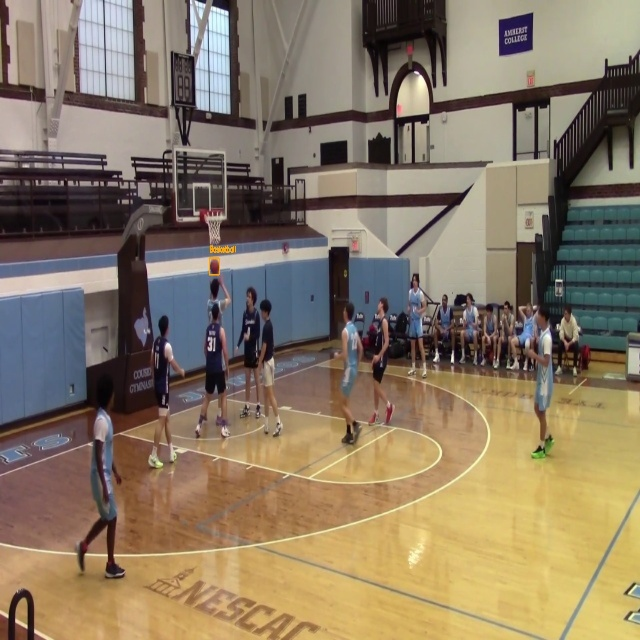Basketball: (210, 258, 219, 275)
